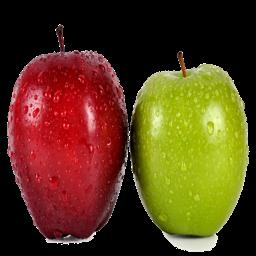Apple Fresh: (4, 18, 133, 245), (125, 31, 256, 243)
